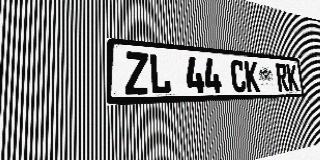4: (185, 56, 205, 94), (203, 57, 222, 93)
C: (230, 59, 247, 93)
K: (244, 61, 260, 92), (286, 64, 299, 91)
L: (149, 53, 171, 94)
R: (275, 63, 289, 92)
Z: (124, 51, 149, 95)
